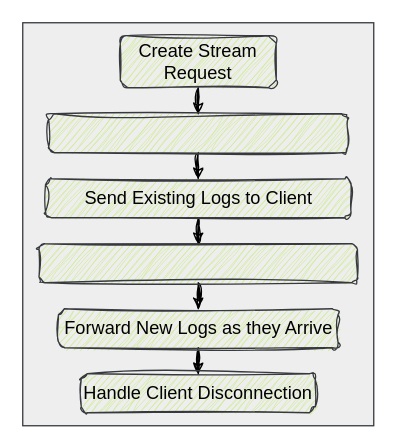
This 397x448 diagram has some shape labels left out. Each missing label, with the box of its shape:
Retrieve Historical Logs: (47, 112, 348, 153)
Subscribe to Real-time Updates: (38, 242, 358, 283)
